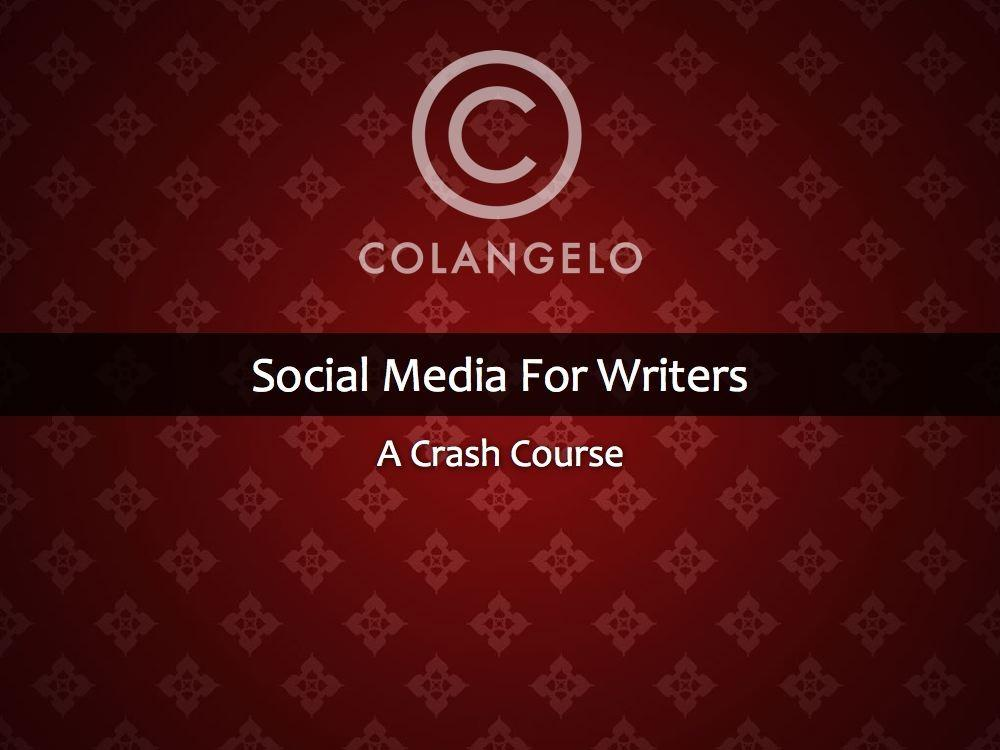title: (206, 229, 799, 487)
